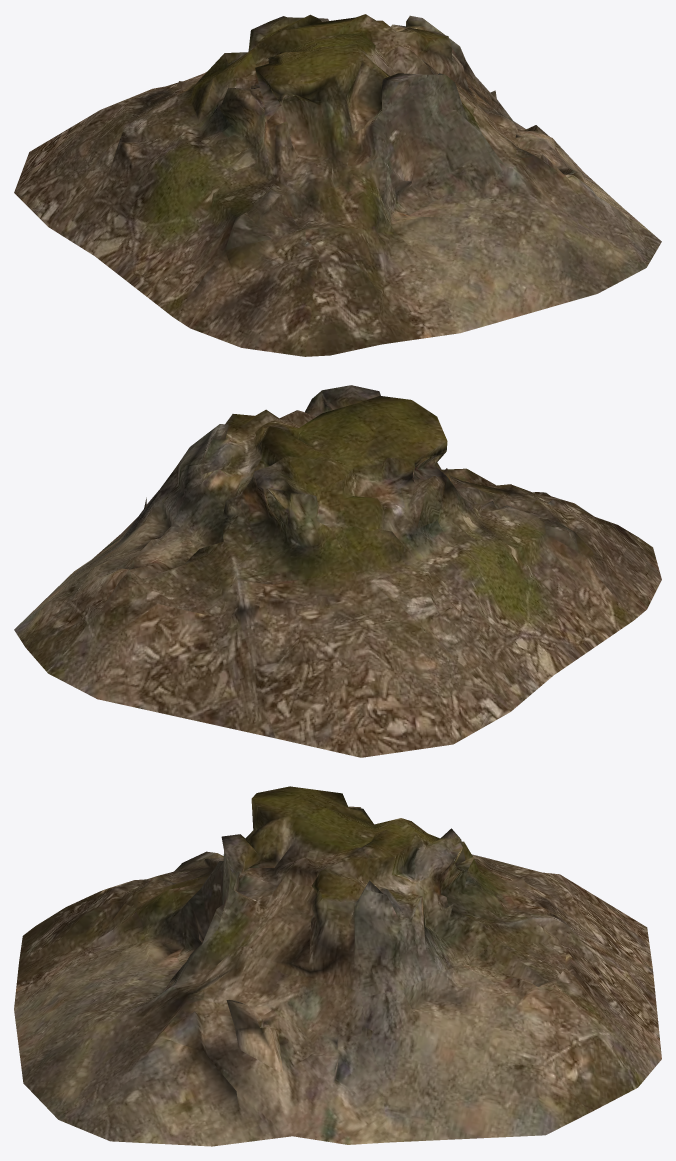
File: tree_stump_01.glb
3 views of the same model, one above another, from view 1: azimuth 30°, elevation 25°; view 2: azimuth 150°, elevation 25°; view 3: azimuth 270°, elevation 25° (orthographic). The views are drawn at different scales.
Parts seen in each view (by area): view 1: tree_stump_01; view 2: tree_stump_01; view 3: tree_stump_01.
Boxes of the visible parts, left/top/right/bottom form: tree_stump_01: left=14, top=14, right=661, bottom=356; tree_stump_01: left=14, top=385, right=661, bottom=757; tree_stump_01: left=14, top=786, right=661, bottom=1146.
Size of the model in its own units: 1.43 by 0.5646 by 1.59.
1 material, 1 textured.
